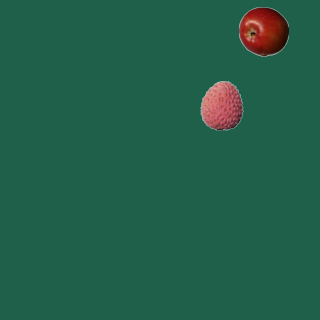Apple Braeburn: (238, 6, 288, 56)
Lychee: (196, 80, 246, 130)
